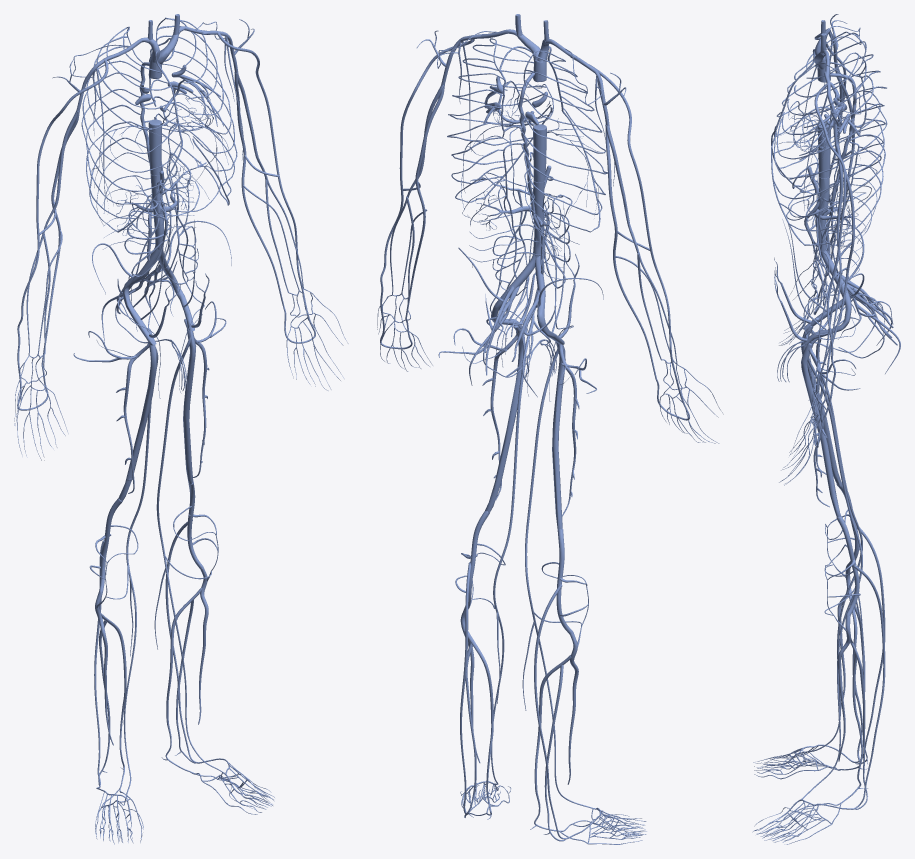
The model's file is bp3d-veins-male.glb.
3 renders of one model, left to right at view 1: azimuth 30°, elevation 25°; view 2: azimuth 150°, elevation 25°; view 3: azimuth 270°, elevation 25°, orthographic. The views are drawn at different scales.
Visible parts, largest first — view 1: Veins; view 2: Veins; view 3: Veins.
Part boxes in pixels (x1,y1,x2,y2): Veins: (14, 14, 348, 844); Veins: (377, 14, 723, 844); Veins: (752, 14, 900, 844).
Bounding box in the file's own units: 0.6487 × 1.46 × 0.2536.
